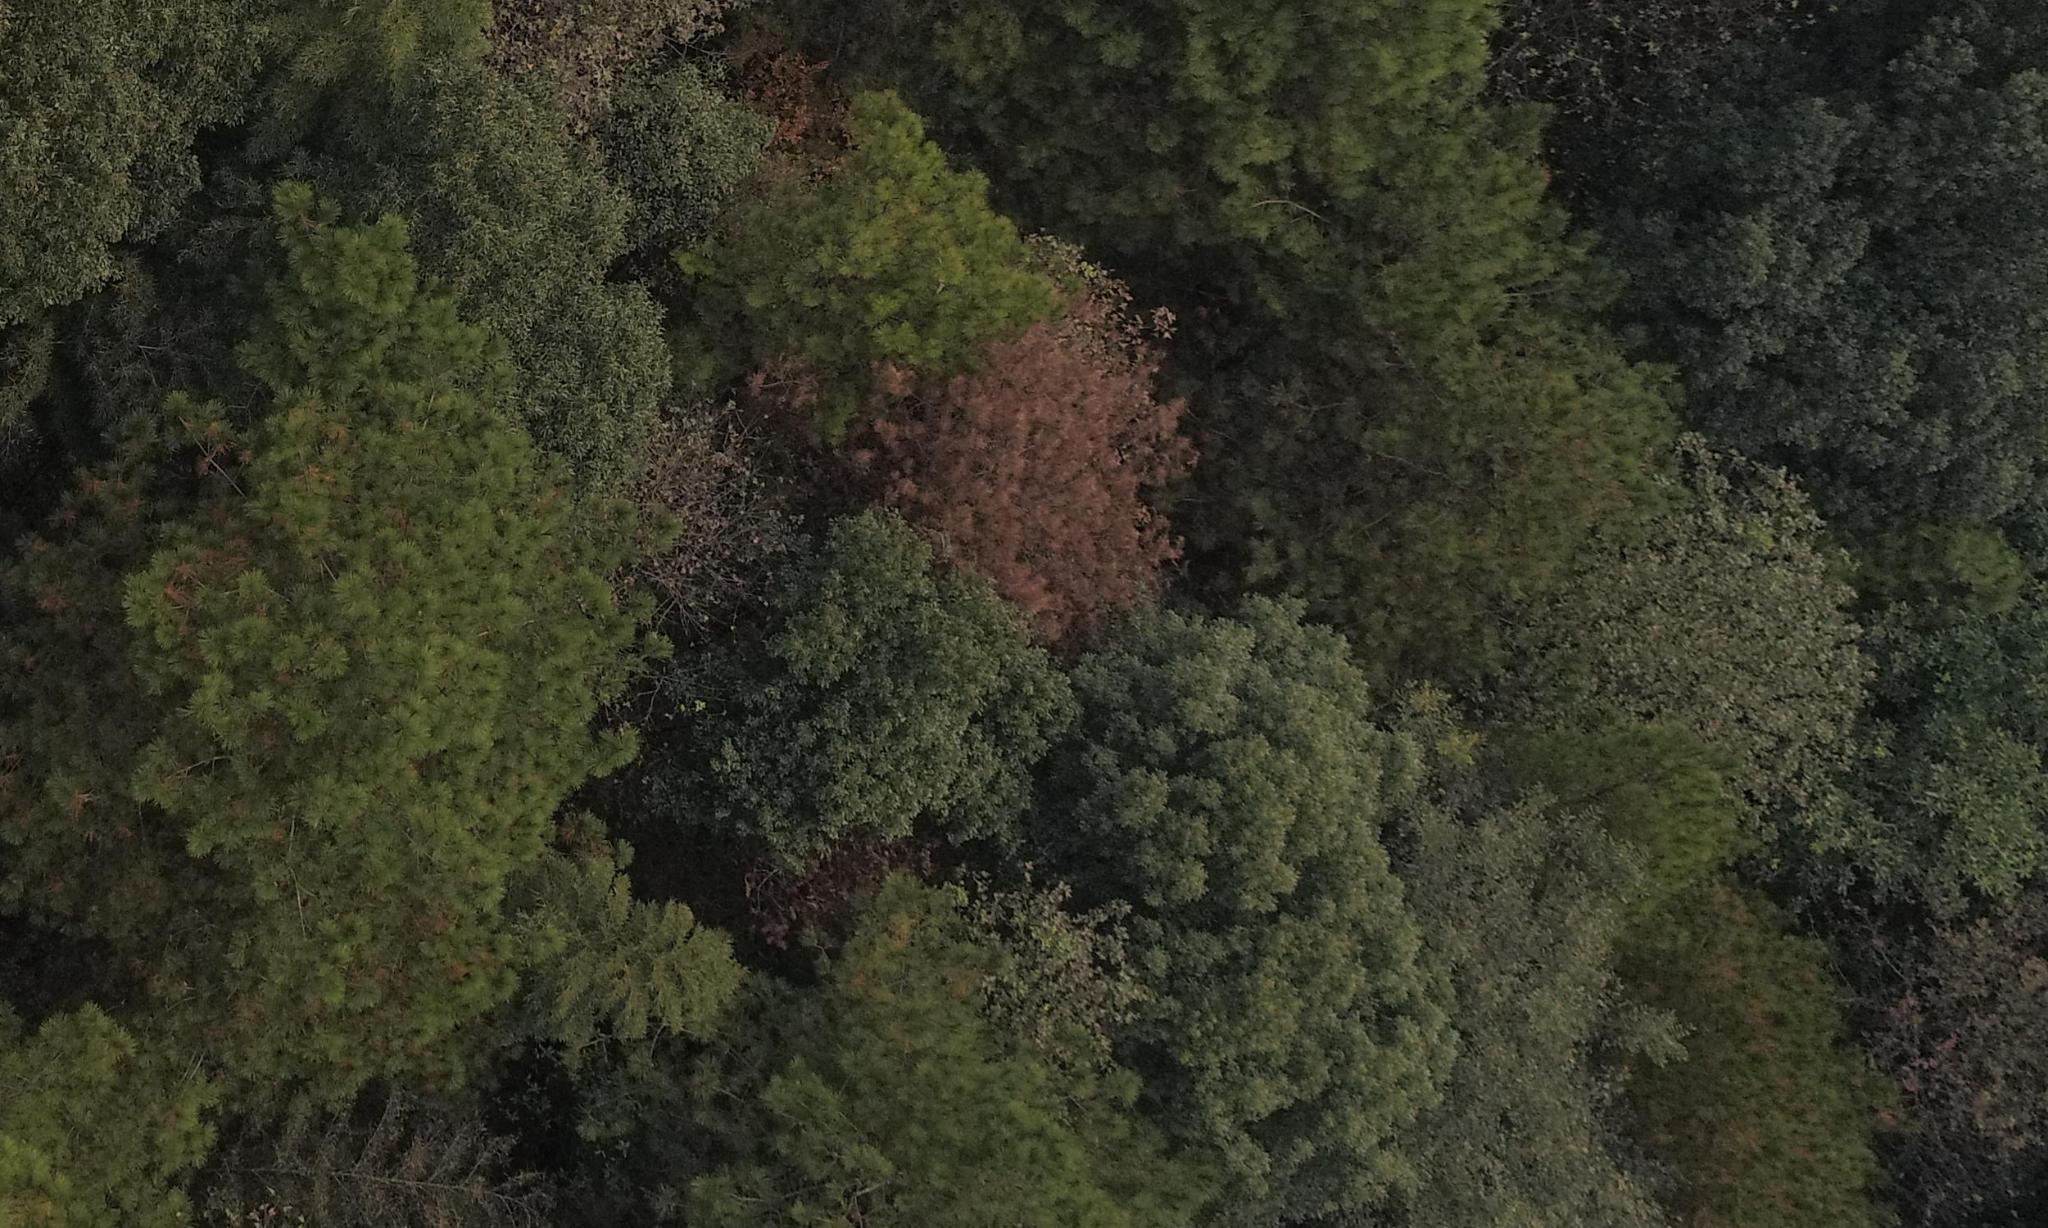heavy: (848, 300, 1180, 634)
light: (120, 405, 512, 1035)
